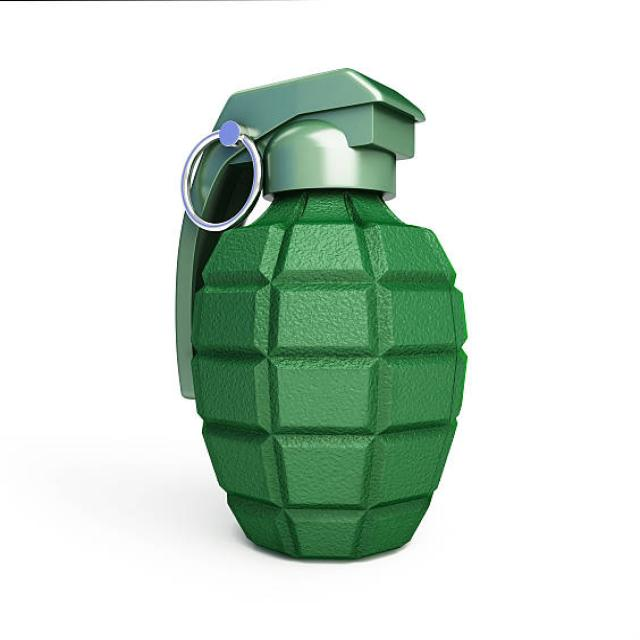grenade: (155, 58, 474, 570)
